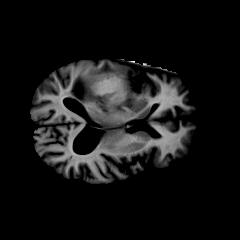glioma: (77, 72, 133, 110)
